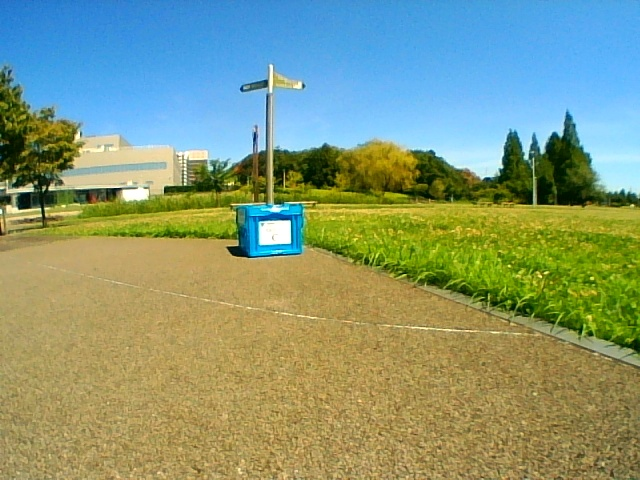blue_box: (237, 204, 302, 257)
tag: (258, 221, 290, 244)
